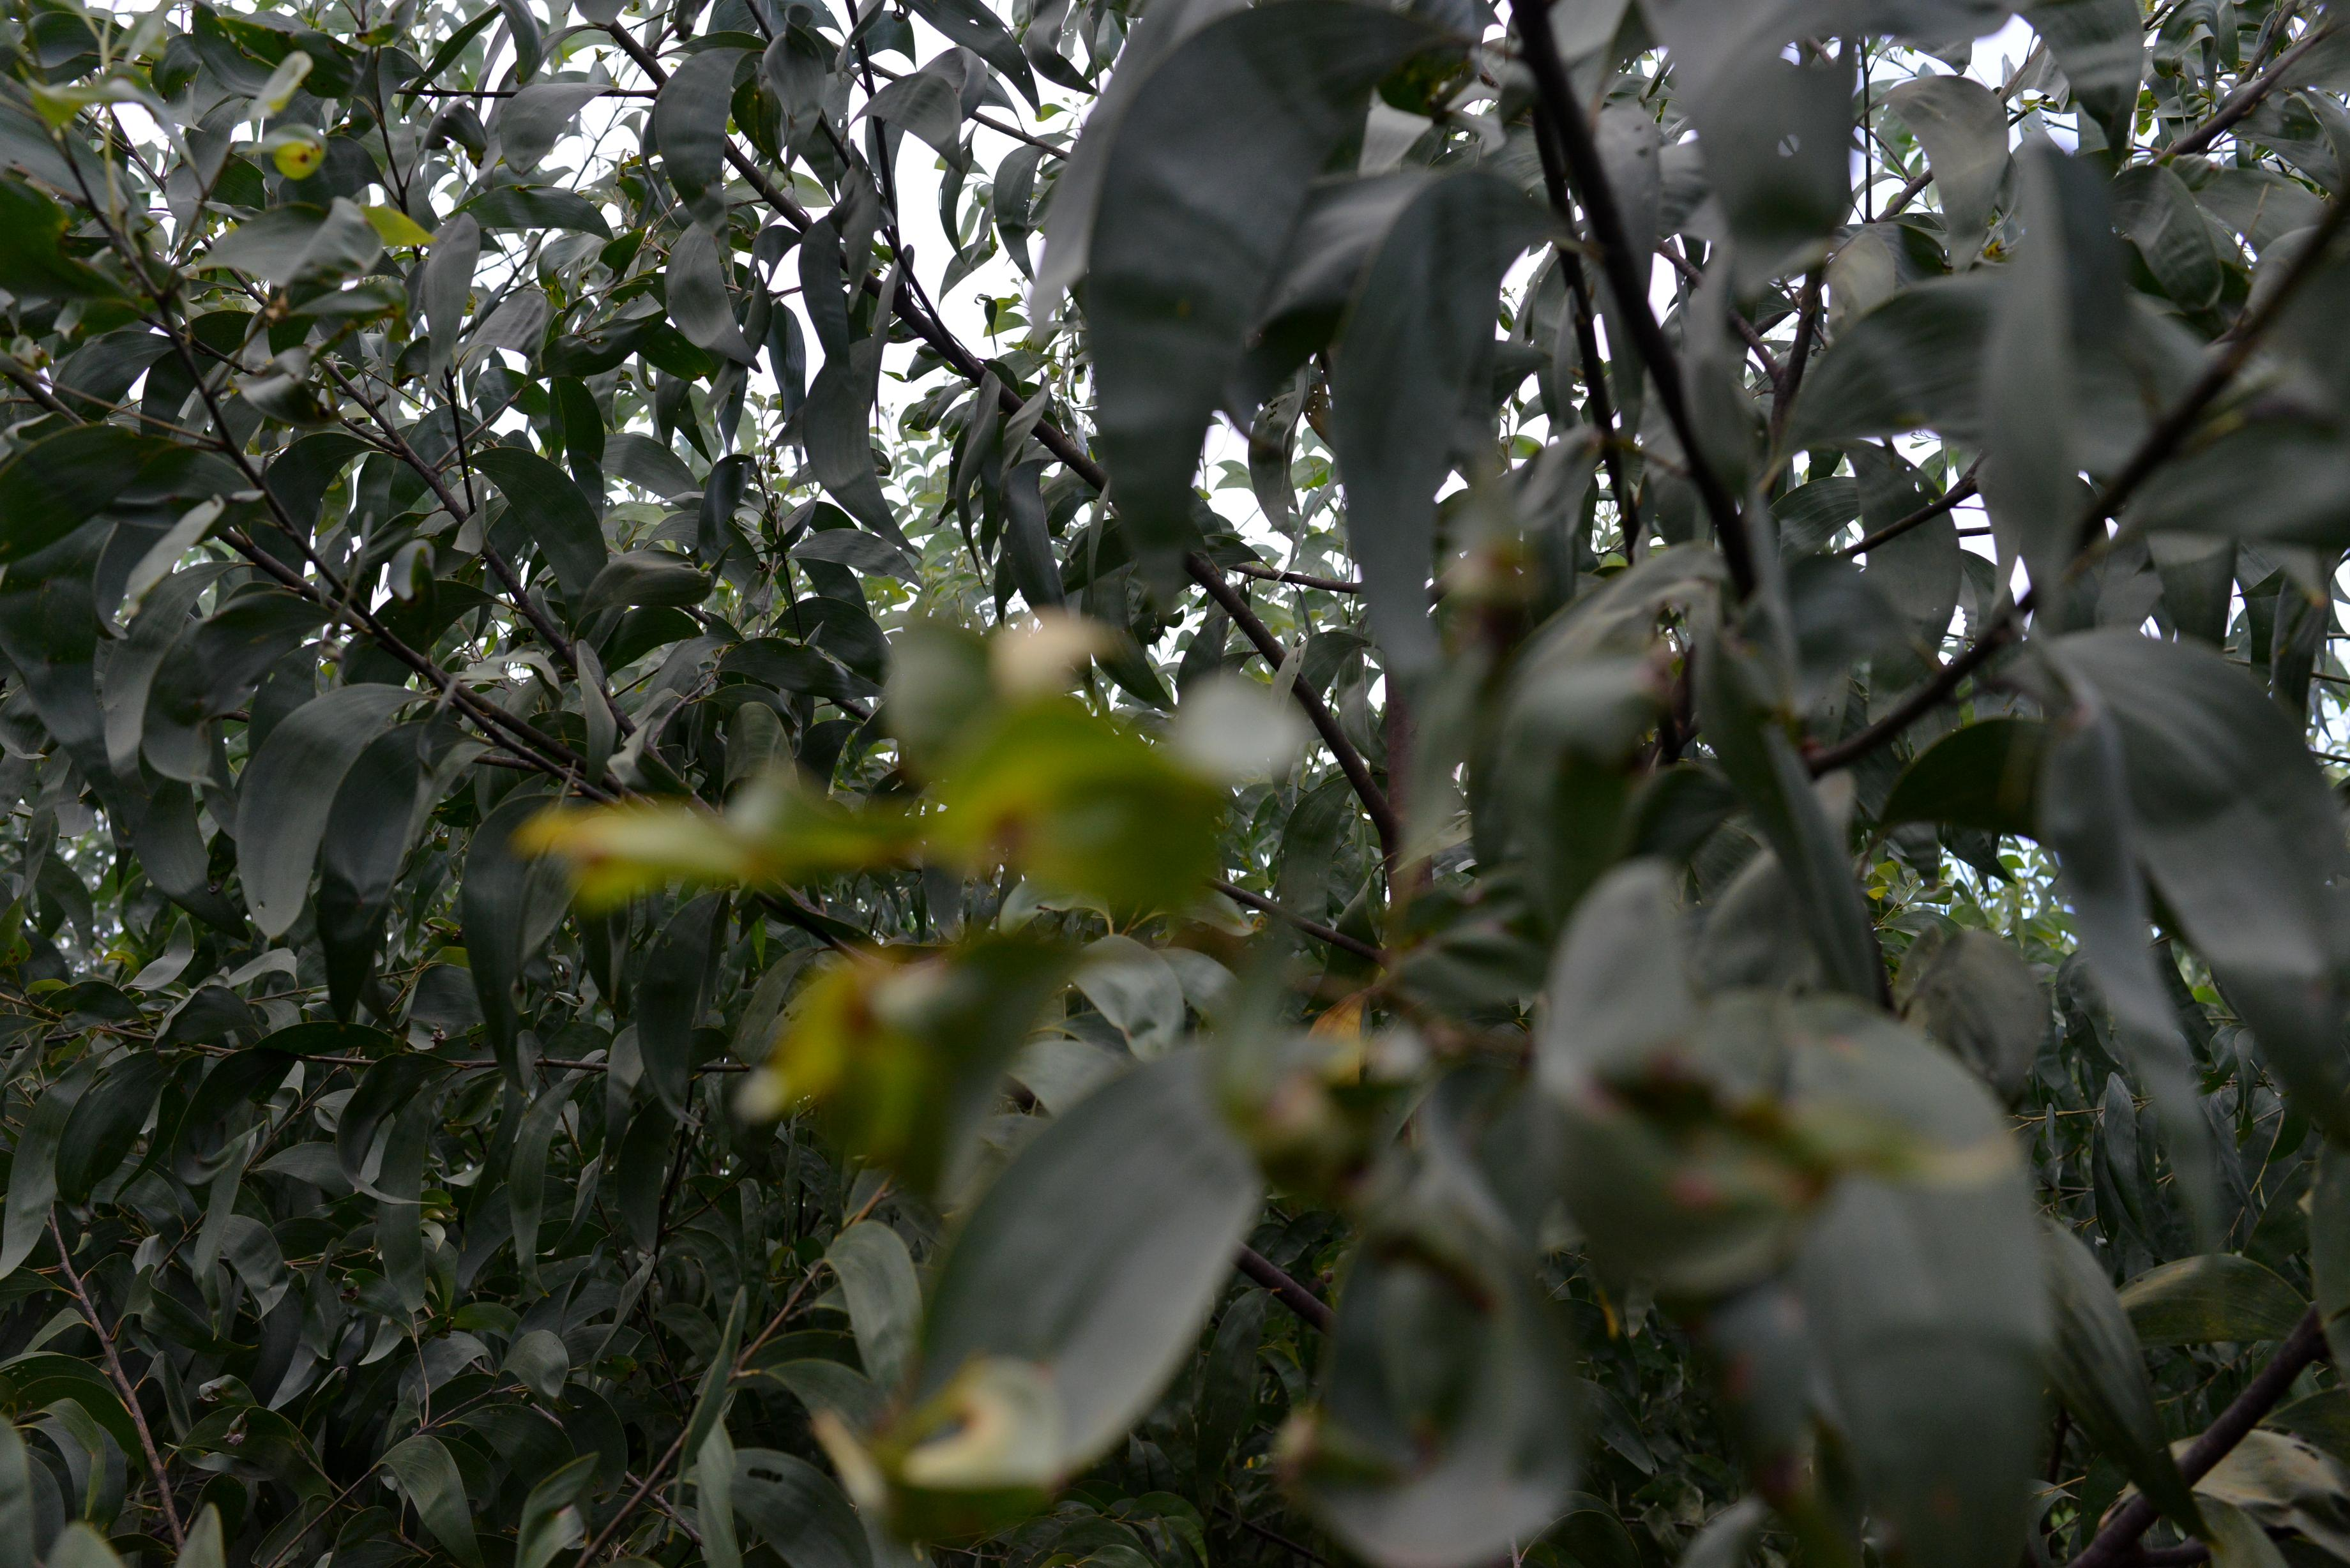Pasalora: (1578, 866, 2074, 1554), (1080, 0, 1442, 623), (581, 649, 1276, 952), (856, 1074, 1276, 1542), (2079, 639, 2350, 1255), (1304, 1095, 1547, 1542), (1494, 534, 1701, 826), (1997, 112, 2114, 574), (1746, 296, 1970, 488)
